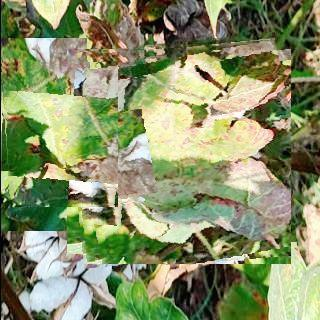blight: (66, 38, 290, 264), (0, 61, 117, 207)
